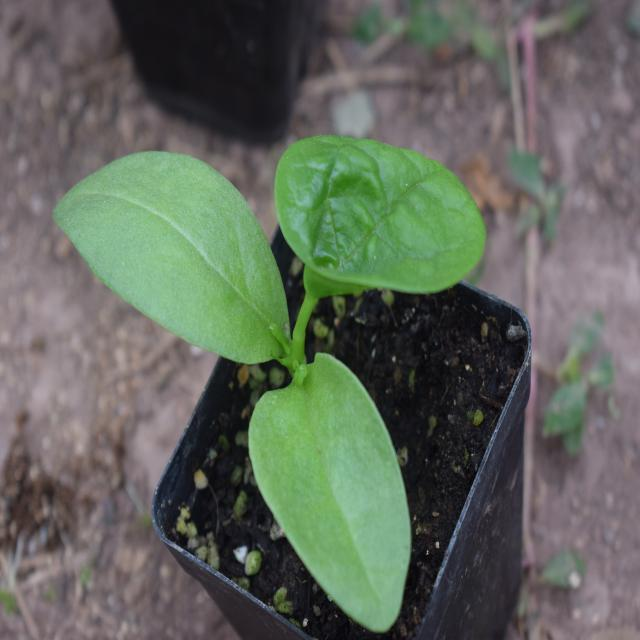Ceylon spinach: (73, 124, 457, 569)
